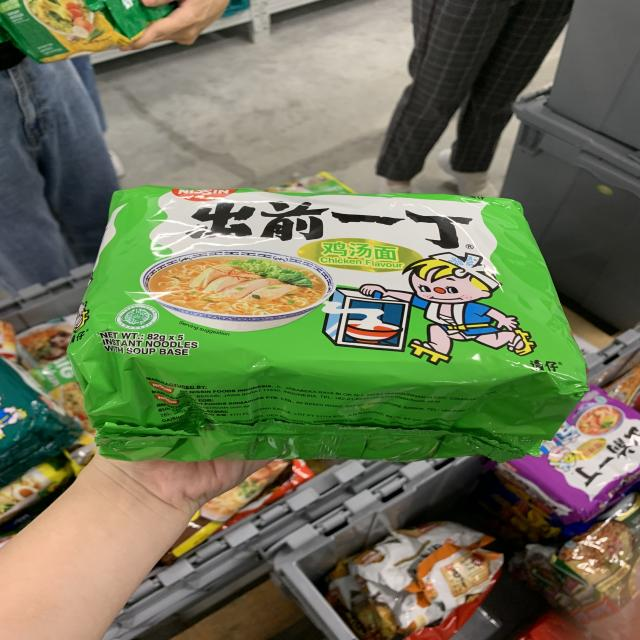object_name: (94, 195, 555, 446)
